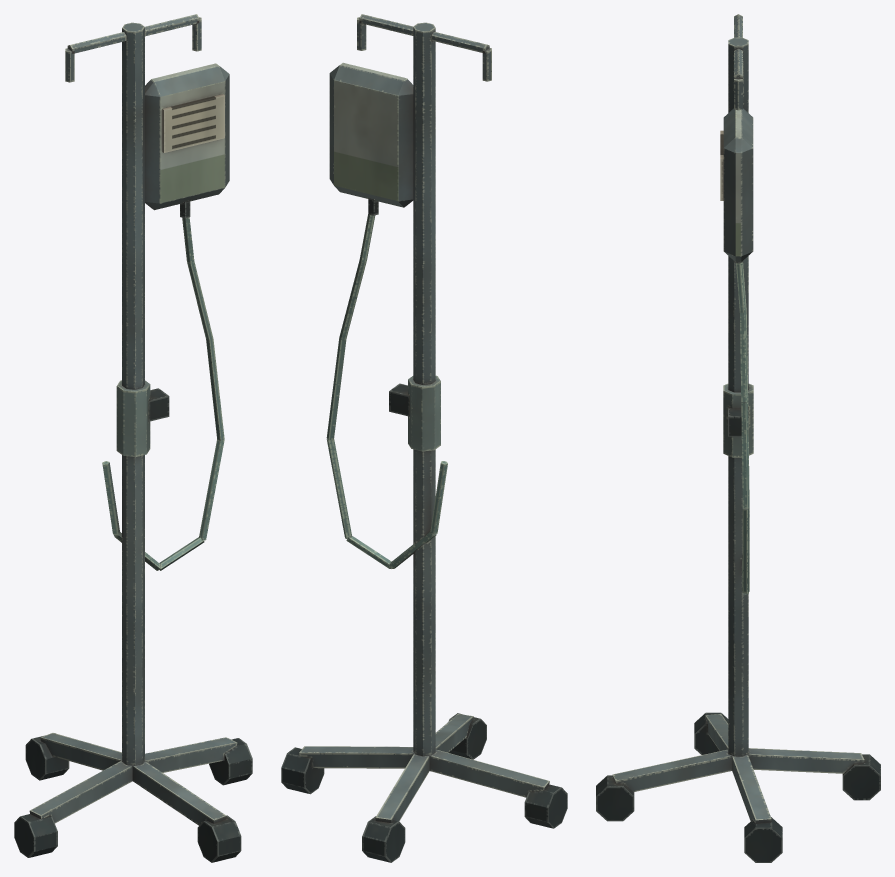
File: Soporte_Suero.glb
The picture shows the model from 3 angles, left to right: view 1: azimuth 30°, elevation 25°; view 2: azimuth 150°, elevation 25°; view 3: azimuth 270°, elevation 25°; orthographic projection. The views are drawn at different scales.
Parts seen in each view (by area): view 1: Soporte_Suero; view 2: Soporte_Suero; view 3: Soporte_Suero.
Part boxes in pixels (bbox=[...]): Soporte_Suero: bbox=[14, 14, 252, 862]; Soporte_Suero: bbox=[281, 14, 567, 862]; Soporte_Suero: bbox=[596, 14, 880, 862].
Size of the model in its own units: 1.85 by 5.69 by 1.92.
Materials: 1 (1 with a texture image).
